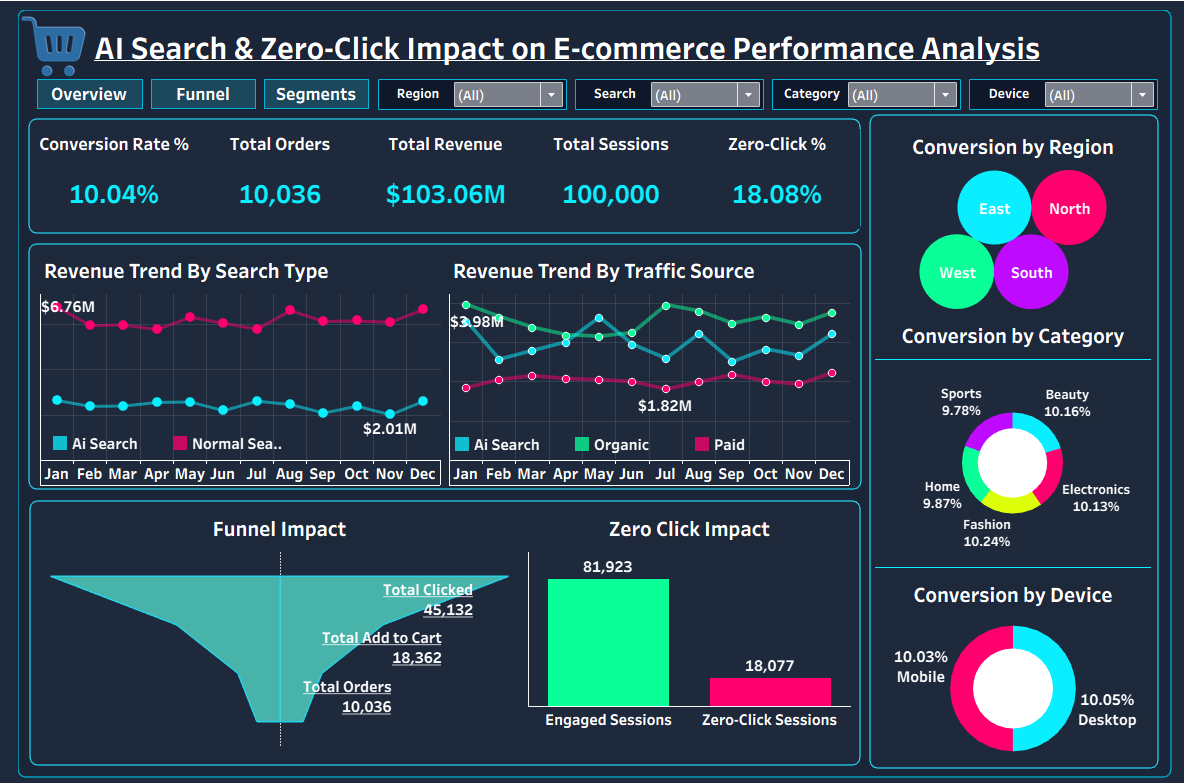

Layout of this report page (visuals, bound fields, positions):
{"tool":"tableau","page":{"name":"OVERVIEW","canvas":[1200,800],"ordinal":1},"visuals":[{"type":"image","param":"Image/Picture1.png","box":[27,19,79,68]},{"type":"text","box":[82,30,987,47]},{"type":"dashboard-object","box":[41,82,114,38]},{"type":"dashboard-object","box":[155,82,113,38]},{"type":"dashboard-object","box":[268,82,113,38]},{"type":"filter","title":"Conversion by Category","param":"[federated.1ay2d1f1t149q11axlq9o1jllozr].[none:region:nk]","box":[382,82,197,39]},{"type":"filter","title":"Conversion by Category","param":"[federated.1ay2d1f1t149q11axlq9o1jllozr].[none:search_type:nk]","box":[579,82,197,39]},{"type":"filter","title":"Conversion by Category","param":"[federated.1ay2d1f1t149q11axlq9o1jllozr].[none:product_category:nk]","box":[776,82,197,39]},{"type":"filter","title":"Conversion by Category","param":"[federated.1ay2d1f1t149q11axlq9o1jllozr].[none:device_type:nk]","box":[973,82,197,39]},{"type":"worksheet","title":"Conversion by Region","mark":"Circle","box":[879,131,284,189]},{"type":"worksheet","title":"kpis","mark":"Automatic","box":[39,136,829,100]},{"type":"worksheet","title":"Revenue Trend By Search Type","mark":"Line","rows":["Calculation_935904320840835074","Calculation_935904320840835074"],"cols":["date"],"box":[44,255,409,242]},{"type":"worksheet","title":"Revenue Trend by Traffic Source","mark":"Line","rows":["Calculation_935904320840835074","Calculation_935904320840835074"],"cols":["date"],"box":[453,255,409,242]},{"type":"worksheet","title":"Conversion by Category","mark":"Pie","rows":["Calculation_572801601160015901","Calculation_572801601160015901"],"box":[879,320,284,259]},{"type":"legend","title":"Revenue Trend By Search Type","param":"[federated.1ay2d1f1t149q11axlq9o1jllozr].[none:search_type:nk]","box":[58,440,262,24]},{"type":"legend","title":"Revenue Trend by Traffic Source","param":"[federated.1ay2d1f1t149q11axlq9o1jllozr].[none:traffic_source:nk]","box":[460,441,363,25]},{"type":"worksheet","title":"Funnel","mark":"Area","box":[43,513,489,244]},{"type":"worksheet","title":"Zero Click Impact","mark":"Bar","rows":["Calculation_935904320840577024"],"cols":["Zero Click Flag (copy)_572801601153875995"],"box":[532,513,331,244]},{"type":"worksheet","title":"Conversion by Device","mark":"Pie","rows":["Calculation_935904320873648139","Calculation_935904320873648139"],"box":[879,579,284,191]}]}

Visuals, with their boxes in screenshot pixels (x1, y1, x2, y2), scaled from the page's 1200x800 canvas onto the 1185x783 screenshot:
image: bbox=[27, 19, 105, 85]
text: bbox=[81, 29, 1056, 75]
dashboard-object: bbox=[40, 80, 153, 117]
dashboard-object: bbox=[153, 80, 265, 117]
dashboard-object: bbox=[265, 80, 376, 117]
"Conversion by Category" filter: bbox=[377, 80, 572, 118]
"Conversion by Category" filter: bbox=[572, 80, 766, 118]
"Conversion by Category" filter: bbox=[766, 80, 961, 118]
"Conversion by Category" filter: bbox=[961, 80, 1155, 118]
"Conversion by Region" worksheet (Circle marks): bbox=[868, 128, 1148, 313]
"kpis" worksheet: bbox=[39, 133, 857, 231]
"Revenue Trend By Search Type" worksheet (Line marks): bbox=[43, 250, 447, 486]
"Revenue Trend by Traffic Source" worksheet (Line marks): bbox=[447, 250, 851, 486]
"Conversion by Category" worksheet (Pie marks): bbox=[868, 313, 1148, 567]
"Revenue Trend By Search Type" legend: bbox=[57, 431, 316, 454]
"Revenue Trend by Traffic Source" legend: bbox=[454, 432, 813, 456]
"Funnel" worksheet (Area marks): bbox=[42, 502, 525, 741]
"Zero Click Impact" worksheet (Bar marks): bbox=[525, 502, 852, 741]
"Conversion by Device" worksheet (Pie marks): bbox=[868, 567, 1148, 754]
